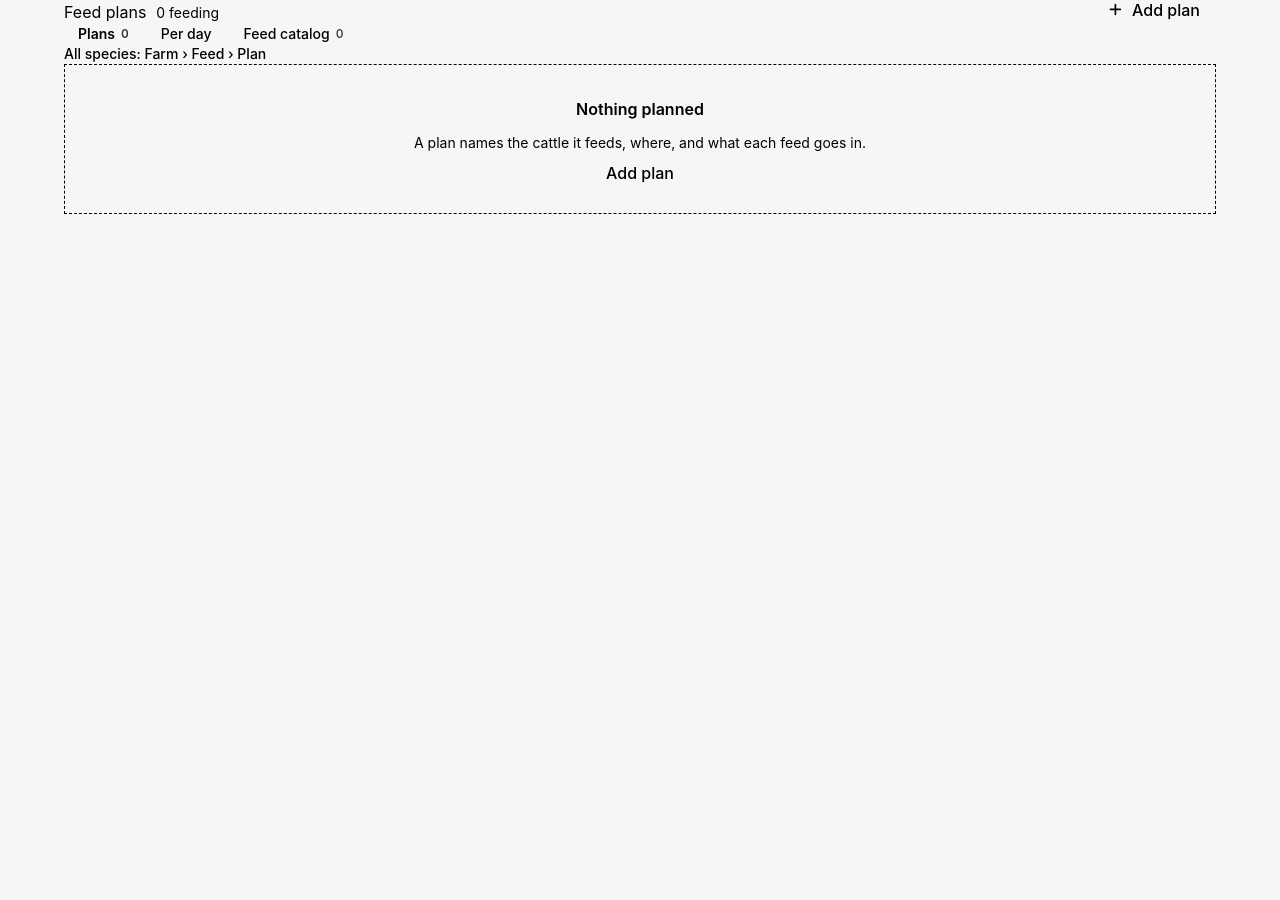
Test: the cattle logs › opens the plan form from the feed screen
The image size is (1280, 900).
Click the button "Add plan" in the row of "0 feeding": (1154, 10) top-left (1091, 1), bottom-right (1216, 18)
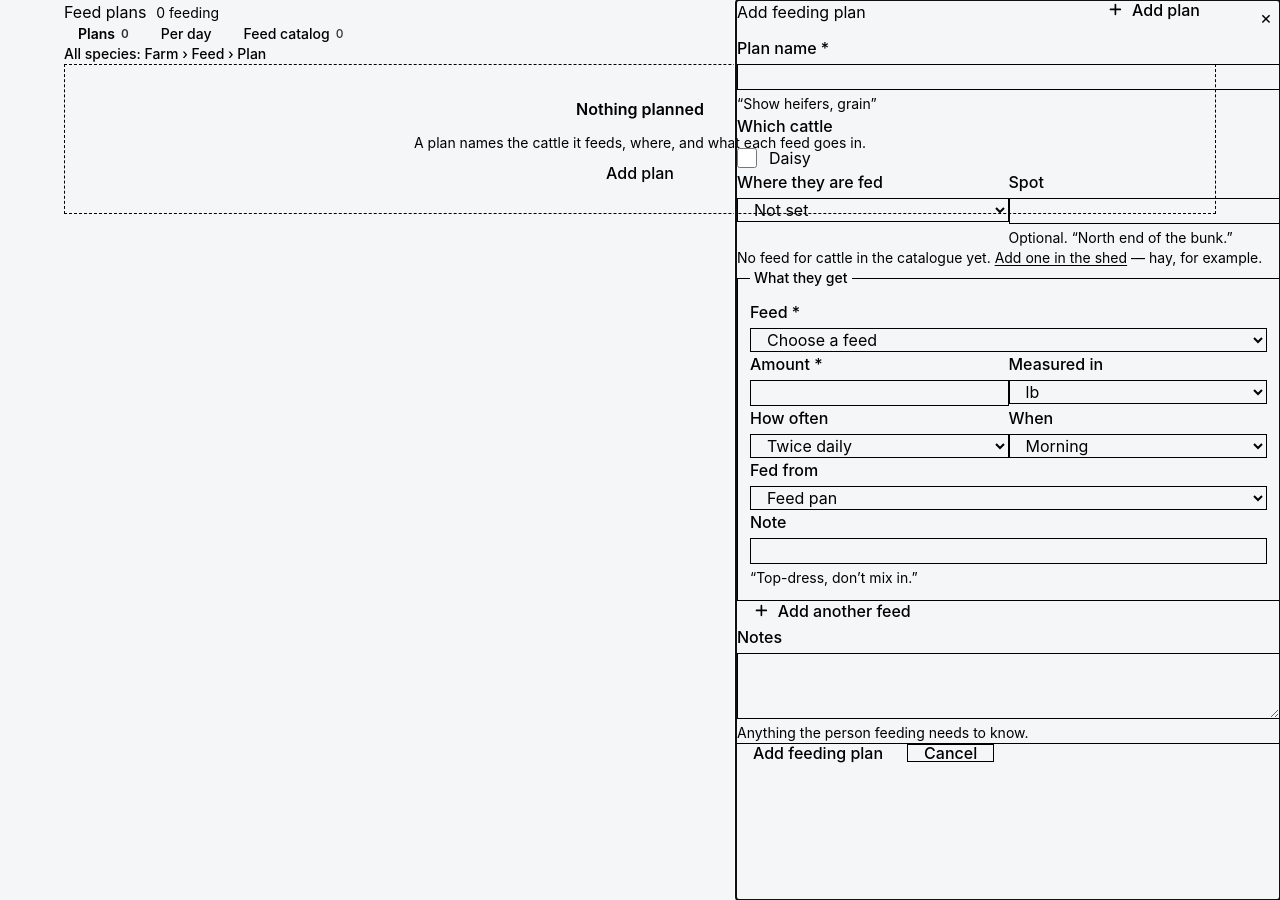
Expected: the field labelled "Plan name *" is shown, top-left (737, 64), bottom-right (1279, 90)
